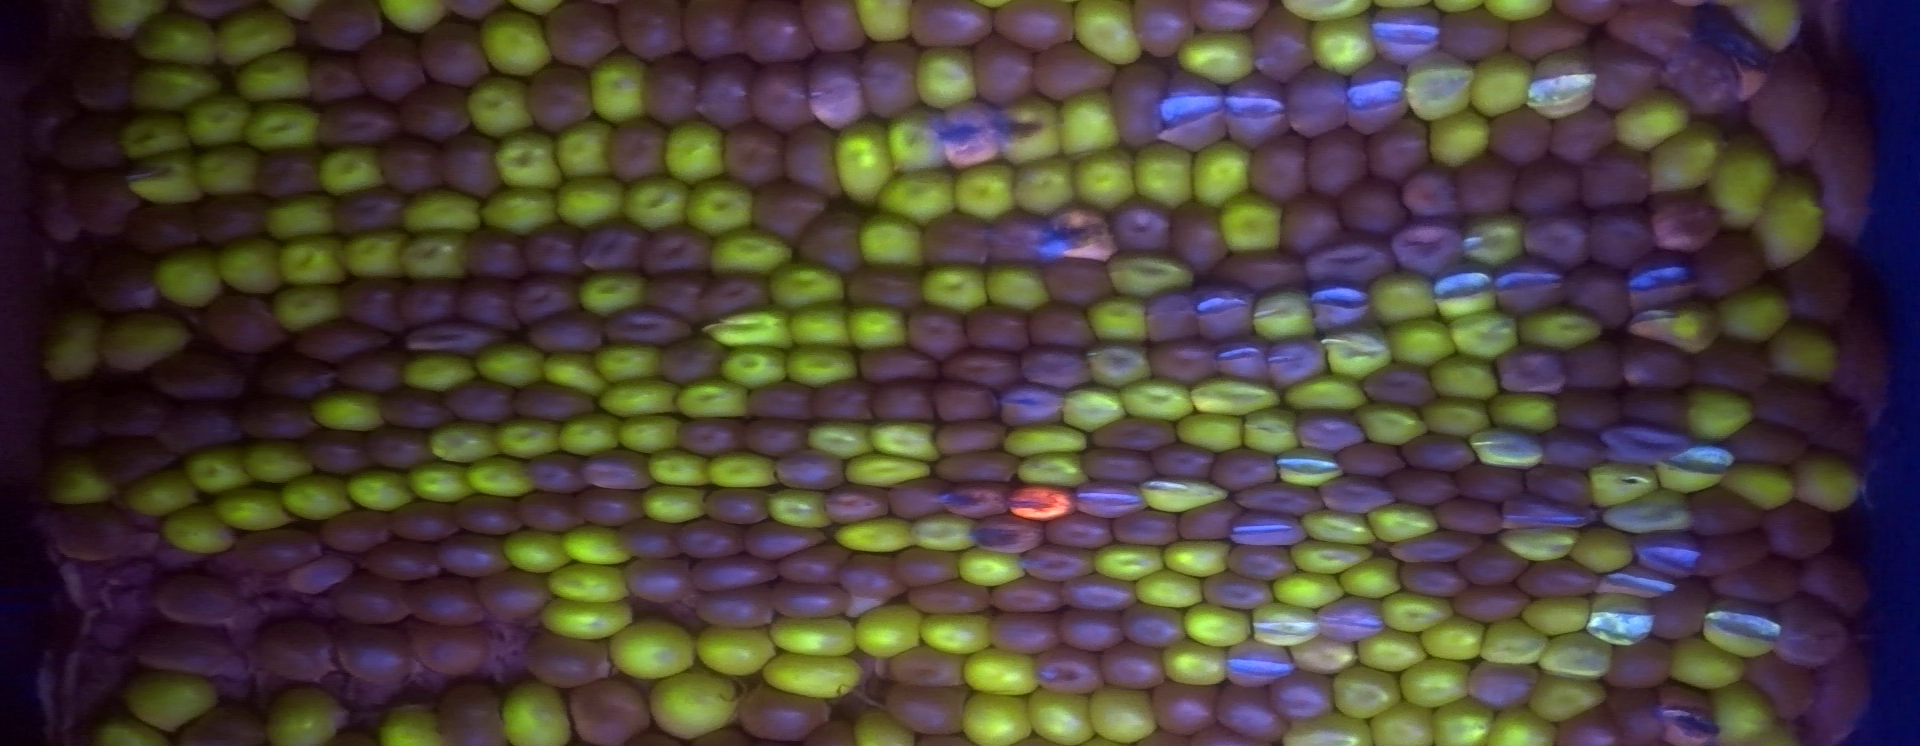fluorescent: (1711, 130, 1776, 228), (1762, 176, 1824, 271), (648, 670, 733, 737), (97, 310, 189, 370), (1649, 122, 1727, 191), (120, 669, 212, 725), (609, 620, 698, 677), (152, 243, 223, 307), (834, 120, 891, 200), (1704, 600, 1780, 660), (131, 61, 222, 111), (479, 10, 549, 73), (500, 684, 571, 746), (1071, 2, 1142, 65), (271, 687, 347, 745), (762, 655, 863, 698), (873, 171, 955, 224), (1058, 87, 1116, 162), (1407, 51, 1476, 114), (1768, 323, 1839, 383), (536, 594, 629, 639), (467, 73, 531, 138), (136, 12, 214, 65), (1664, 636, 1742, 688), (216, 10, 298, 60), (1632, 306, 1720, 353), (1719, 284, 1791, 341), (588, 56, 649, 122), (1136, 142, 1198, 208), (943, 100, 1002, 169), (1108, 246, 1190, 295), (687, 176, 753, 236), (121, 468, 200, 518), (1531, 671, 1609, 722), (1005, 96, 1062, 165), (238, 47, 309, 102), (665, 120, 727, 183), (496, 132, 560, 194), (594, 379, 687, 420), (1178, 31, 1251, 83), (1618, 89, 1686, 145), (696, 624, 770, 674), (1011, 156, 1075, 214), (1191, 140, 1249, 205), (768, 614, 855, 657), (964, 690, 1030, 746), (1471, 51, 1527, 118), (556, 176, 623, 232), (478, 184, 557, 230), (887, 110, 948, 170), (1332, 665, 1401, 718), (917, 47, 980, 104), (1728, 454, 1791, 511), (1089, 686, 1157, 737), (1074, 152, 1135, 209), (545, 559, 629, 600), (1794, 453, 1856, 510), (1309, 16, 1374, 70), (397, 190, 480, 232), (45, 312, 97, 380), (1322, 326, 1390, 377), (245, 103, 317, 151), (276, 236, 344, 287), (1386, 315, 1455, 365), (961, 650, 1037, 696), (219, 239, 283, 293), (1658, 448, 1731, 495), (1607, 492, 1691, 533), (1220, 198, 1286, 250), (1733, 1, 1804, 49), (557, 121, 615, 180), (211, 489, 291, 530), (855, 609, 923, 658), (1191, 379, 1273, 419), (1712, 687, 1771, 744), (1690, 383, 1749, 440), (1251, 285, 1311, 341), (1428, 110, 1488, 165), (767, 261, 841, 305), (497, 528, 572, 572), (623, 176, 687, 228), (1589, 595, 1653, 647), (860, 212, 921, 265), (789, 296, 850, 349), (1026, 688, 1087, 741), (1382, 588, 1453, 633), (45, 463, 113, 511), (1368, 271, 1435, 318), (711, 232, 793, 271), (1517, 306, 1594, 348), (1462, 217, 1524, 268), (711, 309, 786, 352), (192, 145, 256, 195), (1401, 661, 1469, 708), (920, 265, 984, 314), (122, 156, 196, 198), (986, 261, 1047, 312), (1435, 267, 1498, 317), (317, 143, 384, 190), (1160, 639, 1227, 686), (1302, 505, 1374, 548), (1183, 601, 1253, 646), (1588, 459, 1658, 503), (1423, 390, 1485, 439), (1063, 381, 1127, 429), (1449, 312, 1517, 356), (400, 230, 463, 278), (1482, 620, 1544, 668), (164, 508, 235, 550), (1253, 600, 1318, 646), (279, 477, 348, 519), (471, 344, 546, 383), (345, 232, 407, 279), (403, 355, 475, 396), (955, 165, 1011, 217), (803, 420, 871, 463), (1474, 425, 1545, 465), (1489, 392, 1560, 432), (1433, 356, 1498, 401), (264, 198, 333, 240), (1270, 570, 1344, 608), (493, 418, 560, 461), (1123, 379, 1193, 419), (1371, 706, 1441, 746), (1178, 410, 1242, 454), (345, 472, 414, 512), (1362, 402, 1430, 442), (311, 390, 377, 431), (1371, 499, 1438, 540), (1573, 526, 1631, 573), (916, 612, 988, 650), (1015, 451, 1085, 490), (841, 450, 927, 481), (1284, 376, 1364, 410), (542, 349, 602, 394), (1501, 526, 1575, 562), (705, 451, 774, 490), (242, 441, 309, 481), (580, 269, 640, 314), (1491, 702, 1551, 746), (1092, 293, 1142, 345), (125, 114, 186, 157), (187, 450, 249, 492), (765, 488, 827, 530), (1425, 617, 1487, 660), (411, 461, 476, 501), (787, 349, 858, 386), (678, 380, 749, 416), (1005, 480, 1071, 519), (1146, 479, 1224, 512), (1362, 631, 1428, 670), (872, 423, 936, 463), (1164, 537, 1229, 576), (273, 288, 336, 328), (1438, 697, 1496, 740), (616, 416, 682, 454), (847, 306, 907, 348), (567, 526, 627, 567), (467, 454, 530, 494), (430, 423, 493, 462), (958, 546, 1021, 586), (383, 702, 440, 746), (833, 522, 913, 552), (1291, 540, 1371, 571), (1008, 424, 1087, 454), (1526, 597, 1589, 635), (724, 347, 785, 386), (1100, 543, 1164, 579), (1242, 410, 1296, 454), (645, 484, 707, 522), (651, 448, 708, 489), (1090, 342, 1149, 380), (1344, 560, 1403, 597), (1139, 571, 1200, 605), (1276, 447, 1335, 481), (596, 348, 656, 381), (857, 4, 907, 43), (1291, 642, 1359, 670), (913, 516, 970, 549), (558, 423, 617, 453)
nonfluorescent: (1816, 86, 1875, 247), (1755, 47, 1829, 158), (1158, 69, 1229, 151), (1842, 305, 1888, 430), (1791, 240, 1853, 330), (1675, 40, 1745, 115), (258, 615, 336, 682), (202, 295, 283, 359), (1164, 198, 1228, 279), (1245, 9, 1318, 78), (1607, 1, 1696, 58), (1813, 644, 1869, 735), (1776, 597, 1845, 668), (1562, 258, 1632, 330), (1107, 65, 1168, 145), (1756, 500, 1836, 561), (1032, 40, 1113, 100), (527, 630, 609, 688), (1805, 394, 1867, 472), (802, 55, 863, 134), (857, 42, 918, 120), (1224, 77, 1291, 149), (571, 684, 647, 746), (1592, 42, 1660, 110), (1582, 207, 1660, 267), (1745, 650, 1811, 722), (1346, 62, 1411, 135), (67, 40, 133, 110), (421, 21, 491, 87), (84, 246, 156, 311), (1755, 370, 1828, 432), (51, 109, 129, 168), (545, 6, 615, 71), (752, 181, 825, 243), (1575, 149, 1648, 211), (400, 81, 474, 141), (741, 686, 827, 737), (337, 621, 411, 680), (156, 349, 245, 398), (1284, 67, 1349, 135), (65, 171, 133, 235), (1798, 554, 1866, 617), (699, 56, 756, 134), (909, 1, 994, 51), (527, 64, 591, 130), (1367, 116, 1431, 183), (441, 130, 502, 200), (1305, 235, 1400, 281), (55, 503, 126, 563), (359, 32, 420, 100), (144, 628, 229, 677), (1194, 278, 1255, 345), (1273, 194, 1342, 254), (403, 575, 482, 626), (640, 220, 716, 274), (642, 54, 699, 125), (605, 114, 669, 178), (1245, 138, 1309, 202), (245, 345, 334, 391), (781, 125, 842, 191), (1305, 132, 1371, 194), (96, 432, 182, 479), (973, 37, 1032, 105), (1692, 337, 1768, 390), (156, 403, 241, 450), (1654, 684, 1718, 746), (1523, 207, 1589, 267), (295, 318, 392, 359), (721, 122, 782, 186), (615, 2, 682, 60), (884, 685, 967, 731), (749, 62, 806, 131), (1438, 5, 1507, 60), (1698, 234, 1762, 294), (1216, 684, 1283, 740), (1712, 559, 1800, 601), (1494, 258, 1562, 314), (456, 281, 525, 334), (440, 684, 500, 746), (414, 620, 485, 673), (902, 307, 973, 360), (800, 216, 864, 273), (1509, 11, 1584, 60), (302, 2, 384, 48), (256, 146, 324, 200), (1375, 10, 1444, 64), (165, 576, 239, 626), (994, 1, 1071, 49), (238, 530, 323, 573), (1344, 176, 1406, 236), (312, 100, 400, 142), (740, 5, 804, 61), (1511, 160, 1577, 216), (1499, 345, 1567, 398), (1629, 250, 1697, 303), (337, 271, 396, 332), (1462, 541, 1536, 590), (922, 214, 992, 266), (482, 567, 545, 624), (939, 348, 1024, 390), (1131, 1, 1194, 58), (124, 205, 197, 252), (1629, 530, 1702, 578), (804, 1, 869, 55), (984, 614, 1062, 659), (1693, 485, 1760, 538), (686, 590, 771, 631), (884, 647, 965, 690), (465, 223, 525, 281), (582, 218, 643, 274), (1654, 194, 1716, 250), (198, 196, 274, 241), (684, 552, 775, 590), (1155, 680, 1218, 734), (516, 379, 598, 420), (1624, 385, 1695, 432), (1464, 661, 1539, 707), (1549, 109, 1616, 159), (1271, 668, 1332, 723), (1654, 584, 1716, 639), (1102, 641, 1166, 693), (662, 330, 722, 385), (1395, 223, 1466, 269), (1030, 300, 1097, 349), (1622, 339, 1690, 388), (381, 138, 443, 191), (1609, 637, 1671, 690), (242, 397, 315, 442), (849, 263, 924, 306), (1731, 421, 1805, 465), (1400, 164, 1458, 219), (984, 211, 1046, 263), (705, 483, 776, 528), (1524, 465, 1596, 511), (332, 189, 409, 230), (862, 345, 939, 387), (1483, 109, 1545, 160), (1600, 426, 1687, 463), (362, 421, 431, 468), (1036, 646, 1101, 695), (889, 477, 959, 522), (1058, 572, 1134, 614), (835, 548, 895, 600), (602, 307, 694, 342), (967, 304, 1029, 355), (1224, 643, 1296, 687), (1539, 428, 1614, 469), (703, 274, 771, 320), (1205, 443, 1273, 489), (1462, 156, 1510, 220), (361, 537, 433, 579), (310, 50, 369, 103), (1697, 532, 1767, 576), (1455, 584, 1533, 624), (1216, 247, 1297, 285), (55, 387, 104, 450), (340, 576, 403, 625), (769, 583, 852, 620), (909, 582, 994, 617), (1360, 363, 1431, 405), (1150, 341, 1218, 385), (973, 510, 1038, 556), (307, 429, 367, 479), (998, 382, 1070, 424), (576, 486, 645, 529), (936, 448, 1022, 483), (529, 310, 602, 350), (1022, 541, 1096, 582), (936, 380, 1003, 424), (1296, 405, 1363, 450), (684, 5, 737, 61), (1611, 688, 1663, 746), (872, 372, 931, 423), (100, 391, 169, 434), (620, 512, 680, 561), (986, 576, 1063, 614), (405, 318, 501, 349), (1237, 484, 1329, 516), (1025, 345, 1091, 390), (525, 223, 582, 274), (1095, 420, 1179, 454), (441, 530, 504, 576), (776, 546, 850, 586), (39, 175, 80, 246), (380, 387, 451, 428), (1515, 560, 1596, 595), (647, 269, 700, 322), (456, 494, 522, 537), (1567, 342, 1624, 392), (1271, 334, 1329, 383), (775, 450, 842, 491), (746, 380, 813, 421), (451, 376, 511, 423), (673, 521, 749, 557), (1396, 562, 1467, 601), (1389, 529, 1476, 561), (399, 278, 456, 327), (1114, 200, 1171, 249), (1047, 258, 1109, 303), (1309, 282, 1375, 323), (387, 506, 459, 544), (1455, 463, 1524, 502), (740, 418, 807, 458), (1343, 441, 1411, 481), (1144, 292, 1199, 341), (1234, 510, 1305, 548), (809, 380, 872, 423), (1318, 599, 1380, 642), (893, 546, 960, 586), (1044, 513, 1112, 552), (1212, 341, 1273, 383), (333, 350, 398, 391), (629, 559, 686, 605), (1224, 543, 1296, 579), (1060, 606, 1129, 644), (1391, 467, 1460, 505), (1559, 390, 1627, 428), (680, 415, 742, 457), (823, 481, 885, 523), (1153, 440, 1212, 484), (1322, 474, 1389, 513), (744, 521, 825, 552), (1204, 570, 1269, 609), (580, 450, 647, 488), (937, 418, 1007, 453), (323, 510, 384, 550), (1114, 511, 1180, 548), (516, 273, 576, 314), (1082, 450, 1158, 481), (1124, 606, 1185, 646), (1439, 496, 1500, 535), (520, 489, 578, 530), (1407, 432, 1472, 469), (1071, 480, 1149, 511), (1556, 709, 1616, 746), (528, 451, 579, 492), (1180, 503, 1232, 544), (953, 488, 1010, 521), (1195, 1, 1261, 27)
